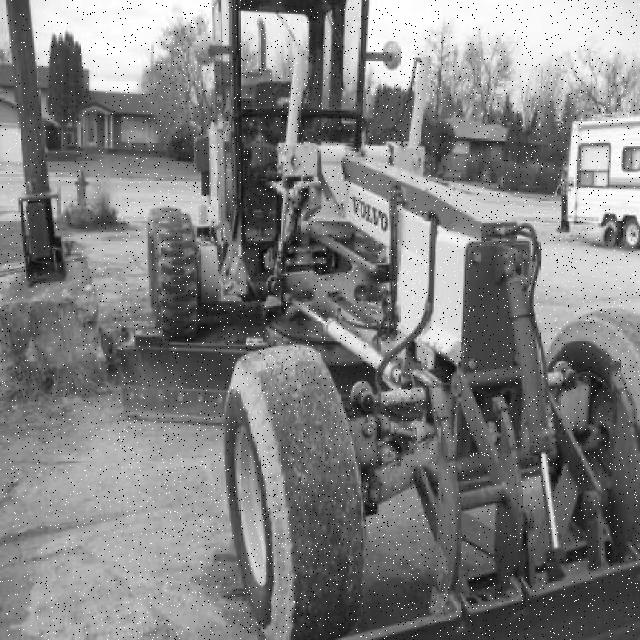Construction Equipment: (117, 0, 640, 640)
